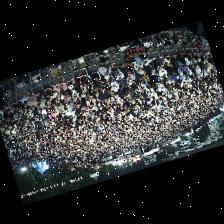person: (85, 60, 101, 83), (155, 58, 167, 78), (151, 68, 162, 86), (74, 71, 85, 89), (119, 62, 133, 76), (40, 86, 53, 99), (53, 81, 67, 93), (99, 65, 111, 78), (110, 62, 119, 78), (65, 104, 74, 120), (143, 58, 154, 71), (86, 79, 95, 94), (75, 85, 87, 96), (177, 60, 187, 73), (29, 94, 37, 110), (174, 52, 185, 63), (51, 90, 60, 103), (96, 80, 105, 93), (80, 97, 88, 111), (124, 72, 134, 83), (12, 100, 22, 111), (161, 54, 171, 65), (135, 71, 145, 82), (69, 88, 78, 100), (134, 61, 143, 73), (125, 86, 134, 98), (40, 98, 48, 111), (110, 77, 118, 90), (117, 68, 123, 83), (98, 93, 107, 103), (60, 98, 70, 107), (198, 50, 207, 60), (50, 99, 59, 109), (185, 57, 193, 68), (49, 109, 56, 121), (22, 94, 29, 106), (102, 75, 111, 84), (116, 87, 124, 97), (36, 99, 42, 112), (167, 75, 174, 86), (192, 51, 200, 60), (66, 79, 74, 88), (17, 107, 24, 117), (8, 101, 15, 111), (116, 94, 123, 104), (195, 65, 202, 75), (58, 103, 64, 114), (122, 79, 130, 87), (104, 85, 111, 94), (60, 94, 67, 102), (65, 88, 70, 99), (41, 109, 47, 118), (45, 97, 52, 104), (191, 58, 197, 64), (0, 109, 3, 118)
